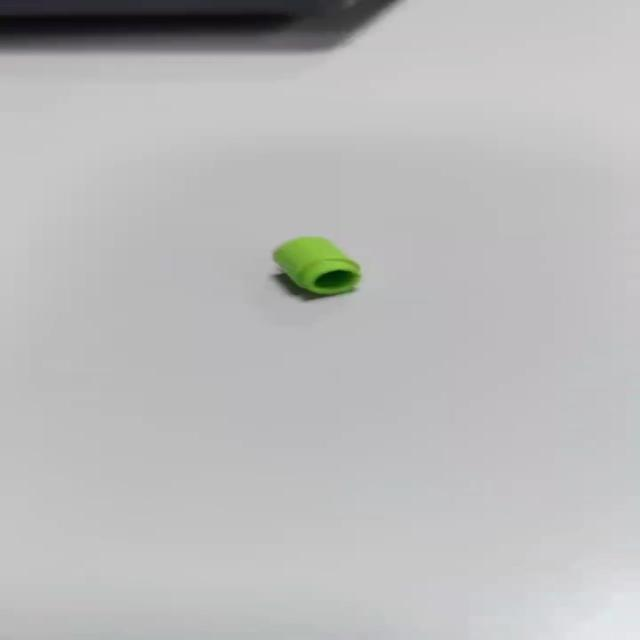S1x1x1: (262, 232, 372, 302), (263, 232, 366, 302)
